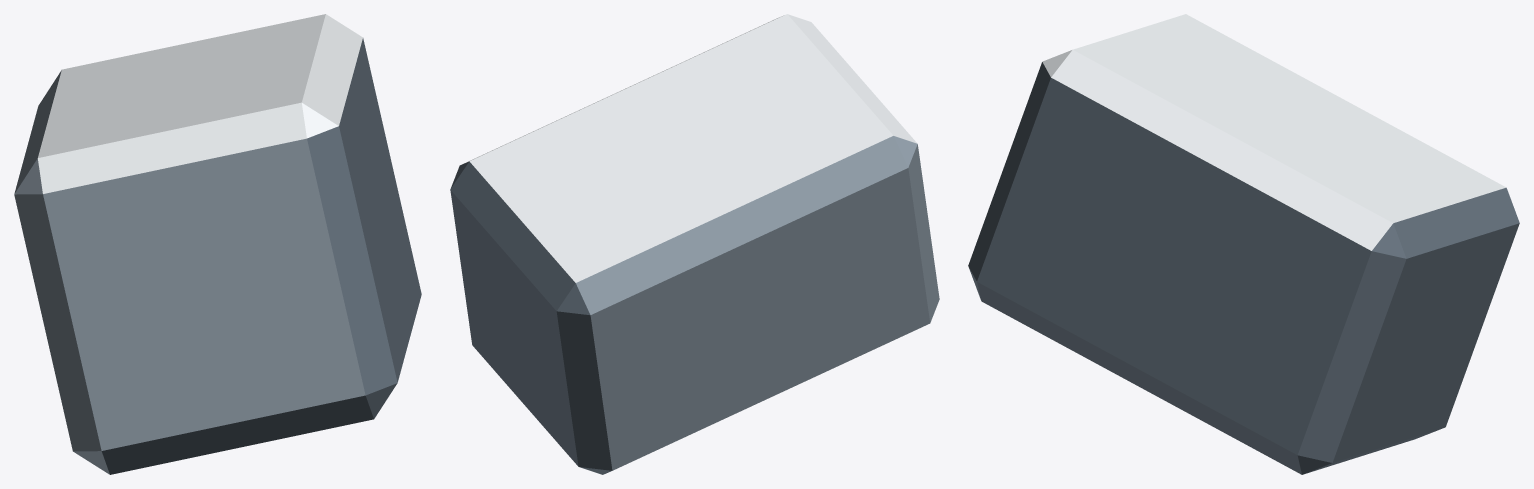
File: Slate_A.fbx
The picture shows the model from 3 angles, left to right: view 1: azimuth 30°, elevation 25°; view 2: azimuth 150°, elevation 25°; view 3: azimuth 270°, elevation 25°; orthographic projection. The views are drawn at different scales.
Parts seen in each view (by area): view 1: Slate_A; view 2: Slate_A; view 3: Slate_A.
Boxes of the visible parts, x1,y1,x2,y2 form: Slate_A: (14,14,421,474); Slate_A: (450,14,939,474); Slate_A: (968,14,1519,474).
Size of the model in its own units: 0.6261 by 0.5564 by 0.739.
